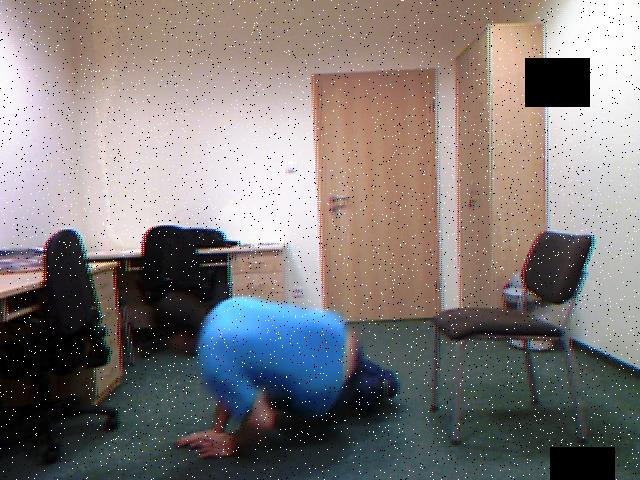fall: (140, 281, 414, 462)
